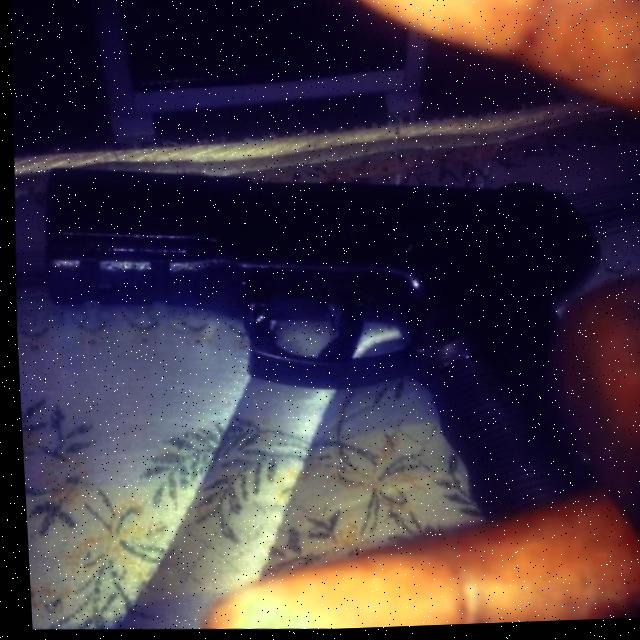pistol: (31, 148, 610, 547)
